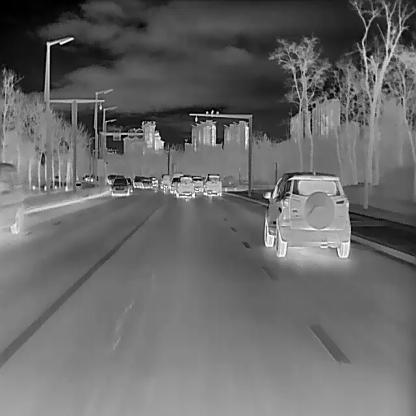car: (263, 170, 351, 256), (0, 161, 21, 234), (202, 172, 221, 195), (175, 176, 195, 197), (110, 177, 130, 195), (191, 175, 203, 190), (169, 177, 179, 194), (160, 172, 170, 188), (140, 175, 152, 187), (150, 175, 158, 187), (127, 177, 132, 191)
